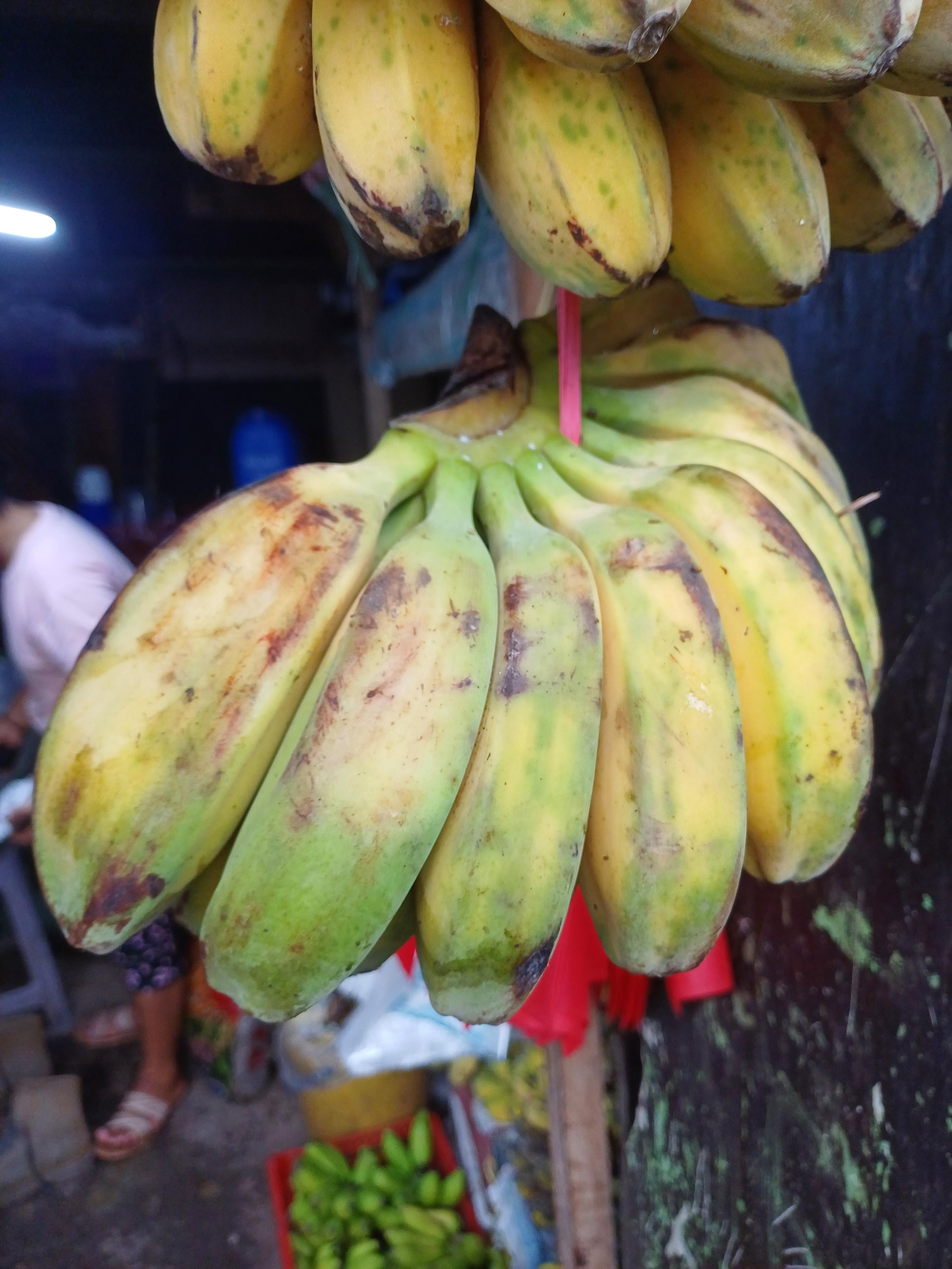underripe: (34, 278, 882, 1022), (152, 0, 950, 306)
